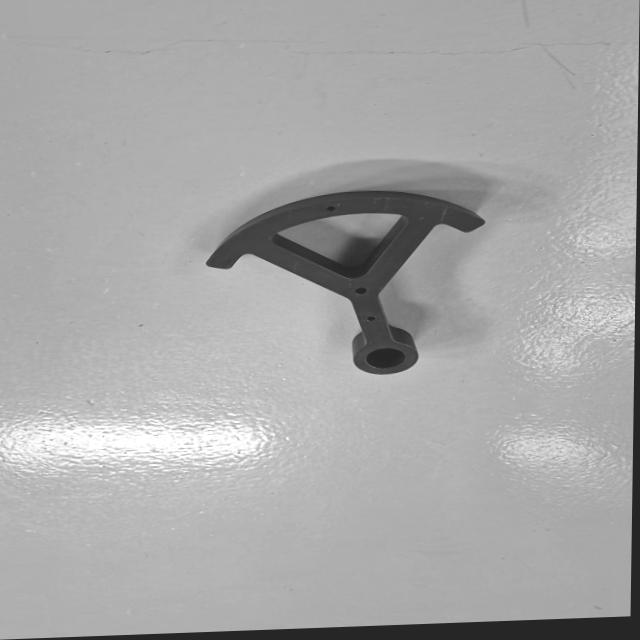haptic: (201, 185, 488, 383)
